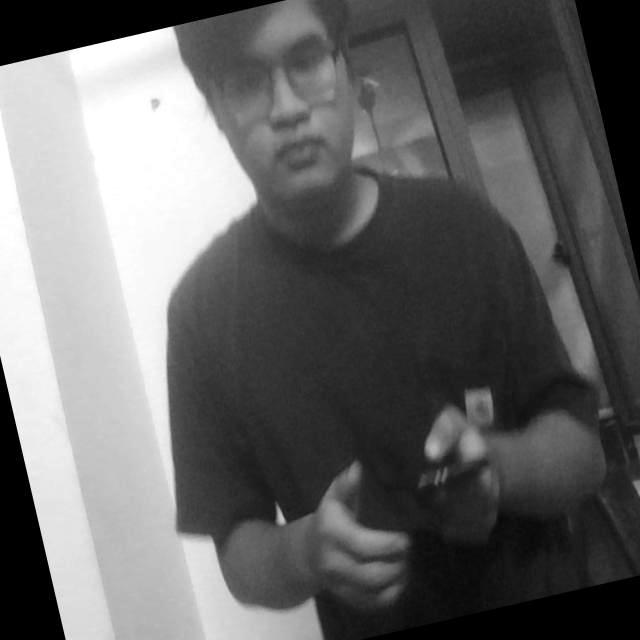phone: (326, 404, 524, 596)
